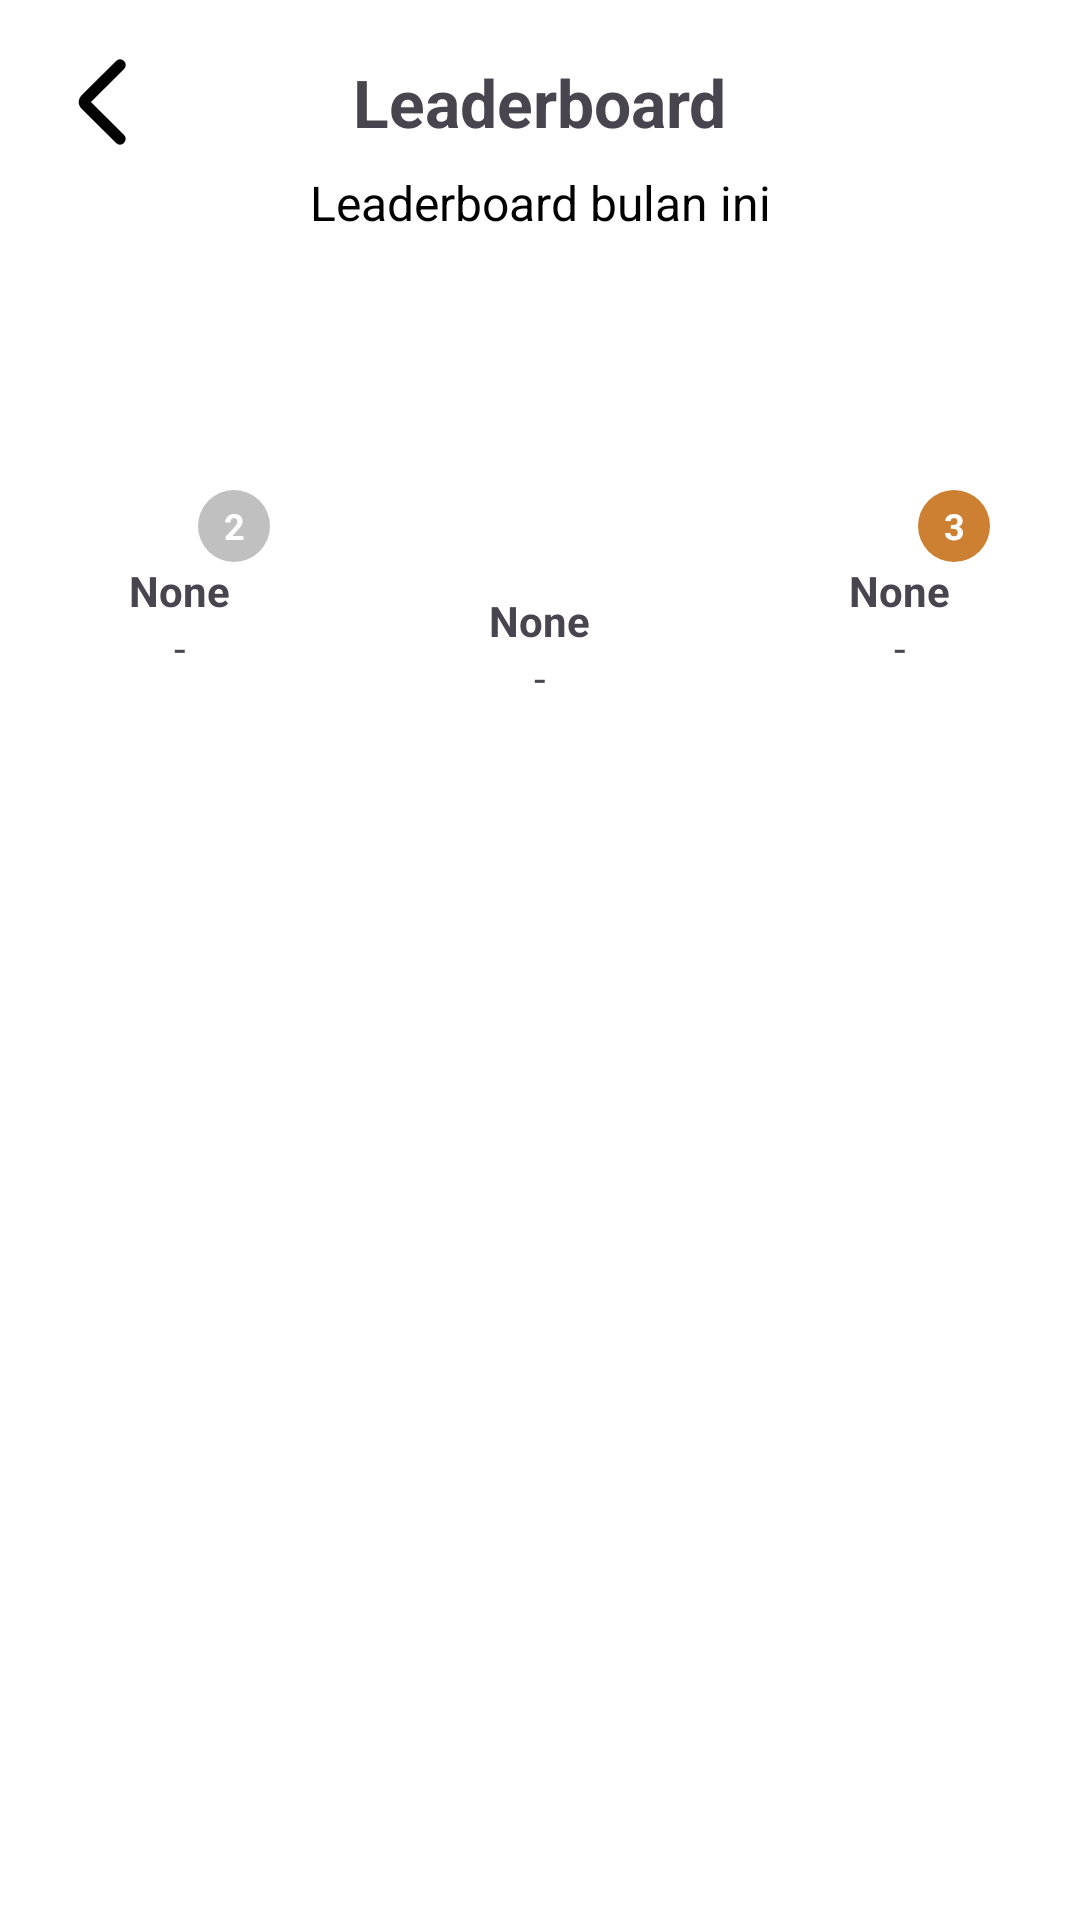

Named icons in this screenshot (1080 x 1920) and their bounding boxes, [x1=x1, y1=y1, x2=x2, y2=y2]:
arrow back: [x1=78, y1=59, x2=126, y2=145]
